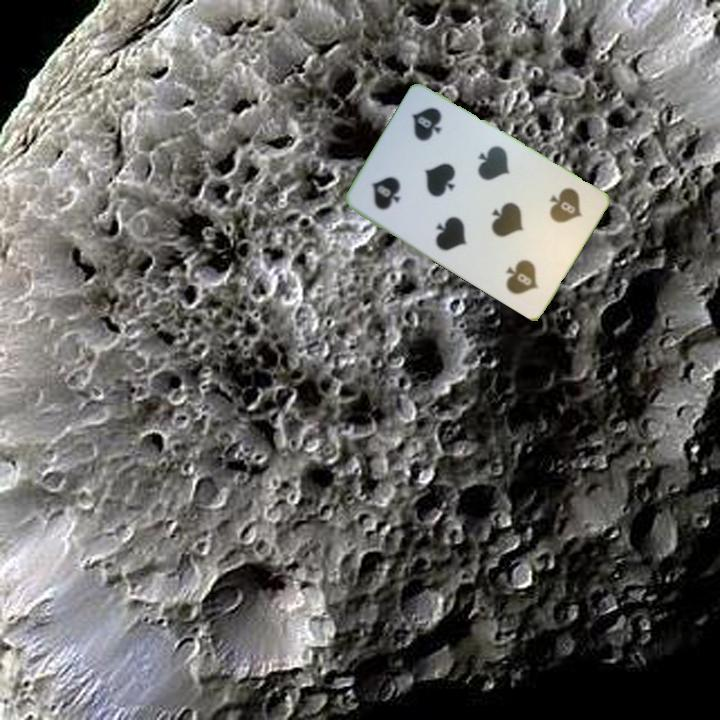s_8.png: (516, 171, 599, 257), (354, 144, 436, 230)
